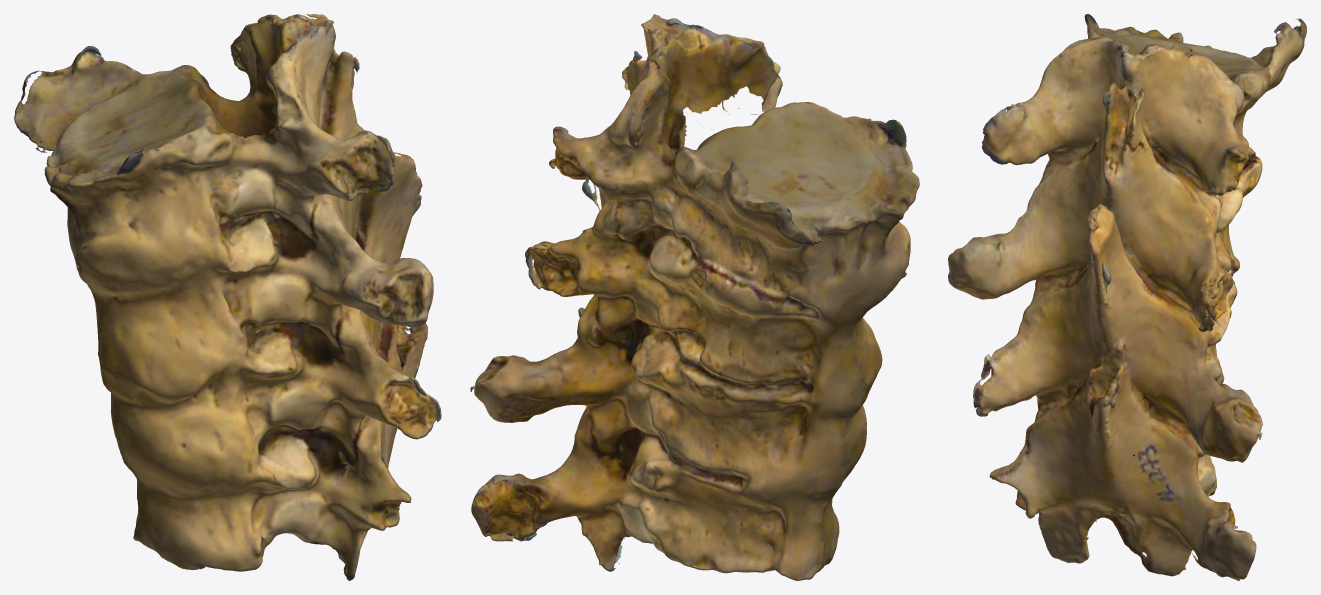
Rendered from vertebra2-web.glb.
The picture shows the model from 3 angles, left to right: view 1: azimuth 30°, elevation 25°; view 2: azimuth 150°, elevation 25°; view 3: azimuth 270°, elevation 25°; orthographic projection. The views are drawn at different scales.
Parts seen in each view (by area): view 1: defaultobject; view 2: defaultobject; view 3: defaultobject.
Boxes of the visible parts, x1,y1,x2,y2 form: defaultobject: (14,14,441,580); defaultobject: (470,14,919,580); defaultobject: (948,14,1306,580).
Bounding box in the file's own units: 81.37 × 109 × 69.
1 material, 1 textured.
